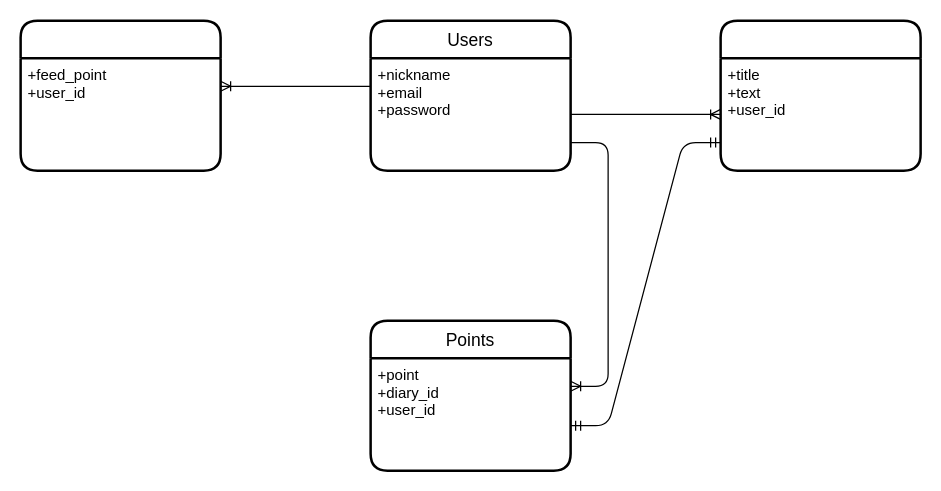
The diagram is 941 pixels wide and 491 high, and some of its shapes have lost their labels. Each missing label, with the box of its shape:
Diaries: (719, 19, 921, 171)
Feeds: (19, 19, 221, 171)
